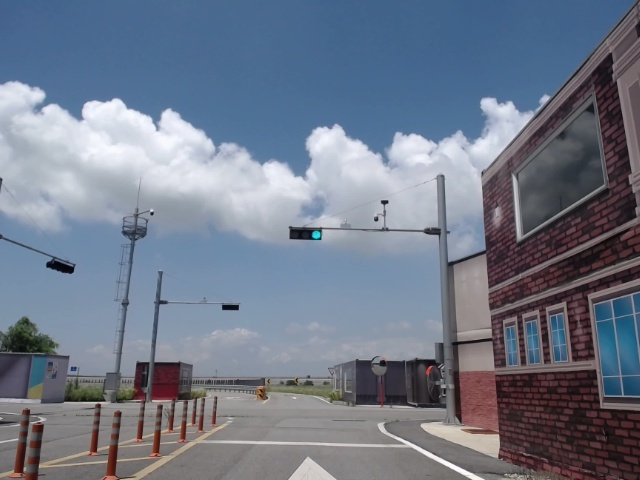green_3: (291, 228, 320, 239)
